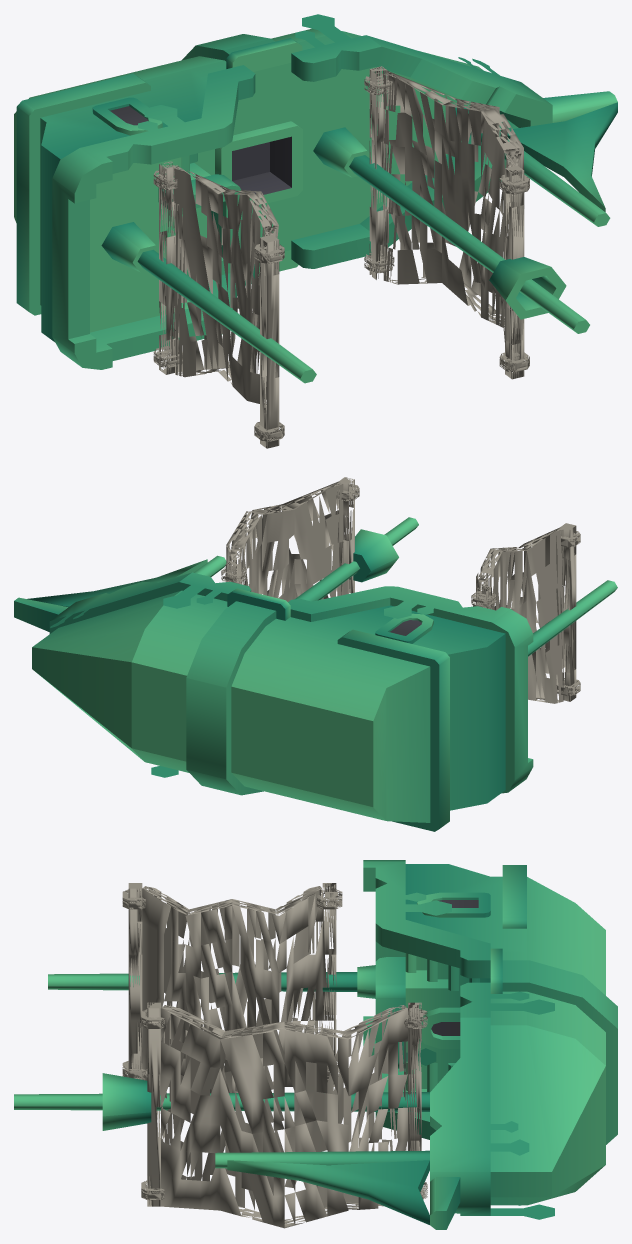
Rendered from SM_Wreck_Ghost.obj.
The picture shows the model from 3 angles, top to bottom: view 1: azimuth 30°, elevation 25°; view 2: azimuth 150°, elevation 25°; view 3: azimuth 270°, elevation 25°; orthographic projection. The views are drawn at different scales.
Visible parts, largest first — view 1: SM_Wreck_Ghost; view 2: SM_Wreck_Ghost; view 3: SM_Wreck_Ghost.
Part boxes in pixels (x1=…): SM_Wreck_Ghost: x1=14, y1=14, x2=617, y2=448; SM_Wreck_Ghost: x1=14, y1=477, x2=617, y2=831; SM_Wreck_Ghost: x1=14, y1=860, x2=617, y2=1229.
Bounding box in the file's own units: 3800 × 1411 × 3572.
Materials: 2 (1 with a texture image).
